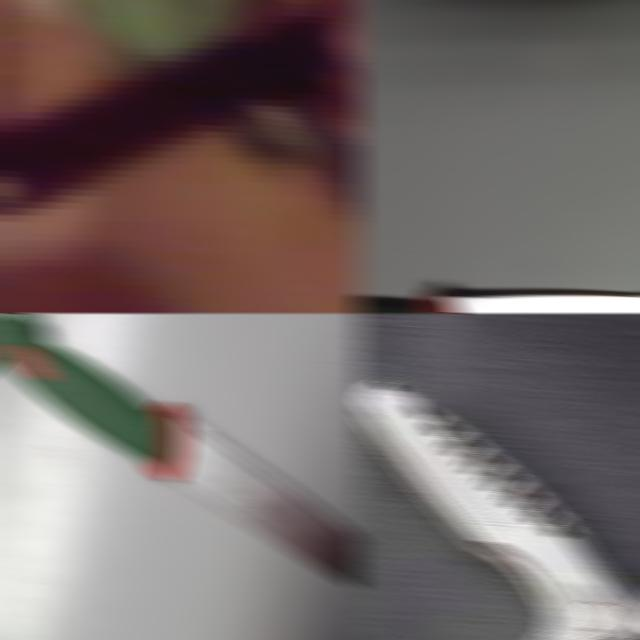Knife: (0, 313, 364, 589), (357, 381, 640, 640), (352, 287, 640, 313)
Knife_Handle: (0, 0, 364, 243)
